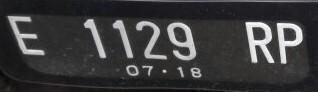1: (80, 18, 108, 60), (110, 17, 134, 61)
2: (136, 18, 168, 62)
9: (167, 20, 201, 60)
E: (6, 15, 55, 59)
P: (275, 22, 307, 64)
R: (244, 21, 276, 64)
